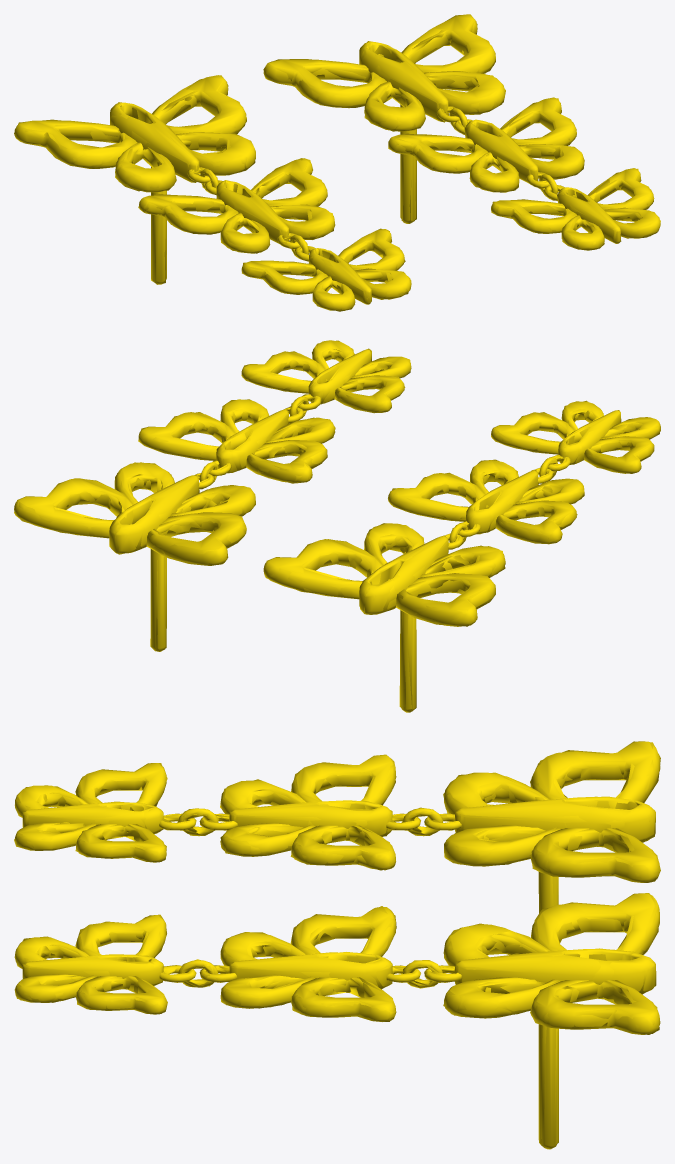
The model's file is GPGN-SAD0003030.glb.
The picture shows the model from 3 angles, top to bottom: view 1: azimuth 30°, elevation 25°; view 2: azimuth 150°, elevation 25°; view 3: azimuth 270°, elevation 25°; orthographic projection. The views are drawn at different scales.
Parts seen in each view (by area): view 1: highPolyMesh, lowPolyMesh; view 2: highPolyMesh, lowPolyMesh; view 3: highPolyMesh, lowPolyMesh.
Part boxes in pixels (x1,y1,x2,y2): highPolyMesh: (14,14,660,310); lowPolyMesh: (14,14,660,311); highPolyMesh: (14,340,660,712); lowPolyMesh: (14,340,659,711); highPolyMesh: (14,741,660,1149); lowPolyMesh: (14,741,660,1146).
Size of the model in its own units: 0.0264 by 0.00864 by 0.0258.
